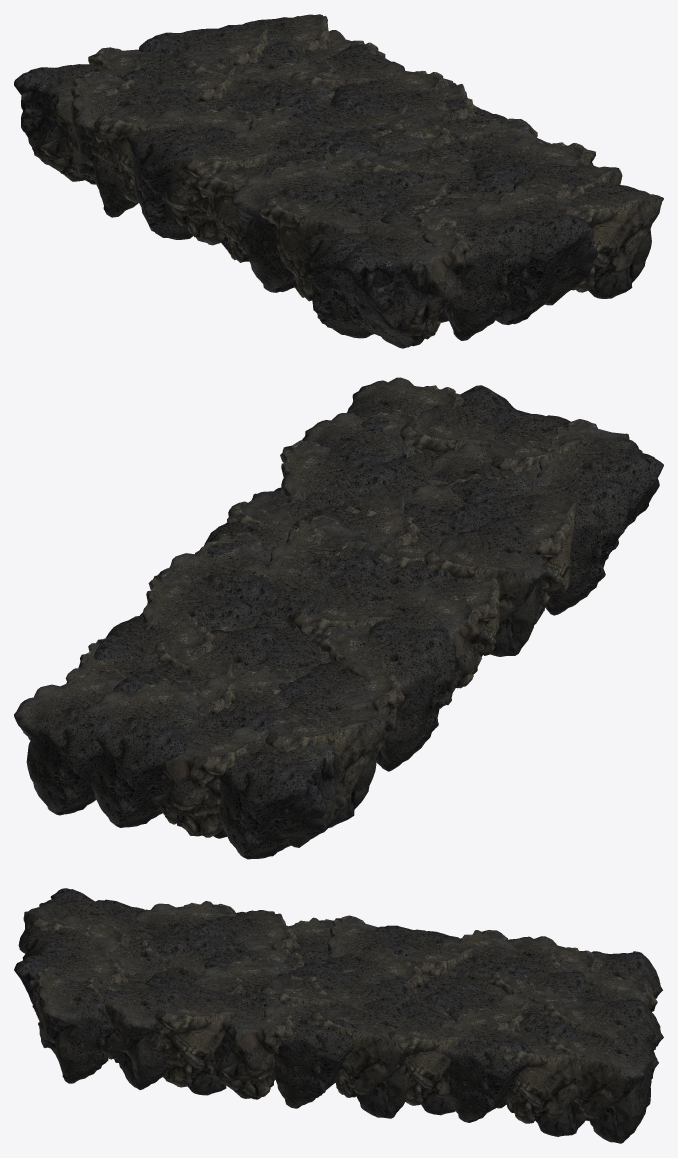
The model's file is rock-road.glb.
3 views of the same model, one above another, from view 1: azimuth 30°, elevation 25°; view 2: azimuth 150°, elevation 25°; view 3: azimuth 270°, elevation 25° (orthographic). The views are drawn at different scales.
Visible parts, largest first — view 1: Scanned rocky incline; view 2: Scanned rocky incline; view 3: Scanned rocky incline.
Boxes of the visible parts, x1,y1,x2,y2 form: Scanned rocky incline: [14, 14, 663, 348]; Scanned rocky incline: [14, 377, 663, 859]; Scanned rocky incline: [14, 888, 663, 1143].
Bounding box in the file's own units: 3.24 × 1.82 × 6.89.
Materials: 1 (1 with a texture image).
